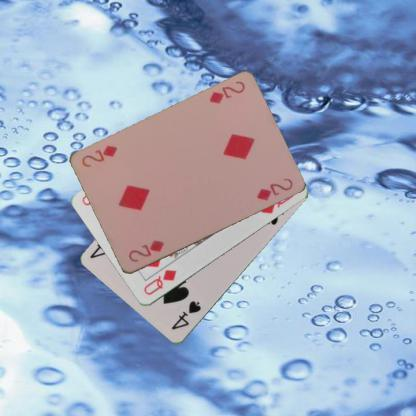2d: (206, 78, 246, 106), (125, 238, 166, 264)
4s: (169, 298, 203, 332)
Qd: (141, 267, 178, 297)
